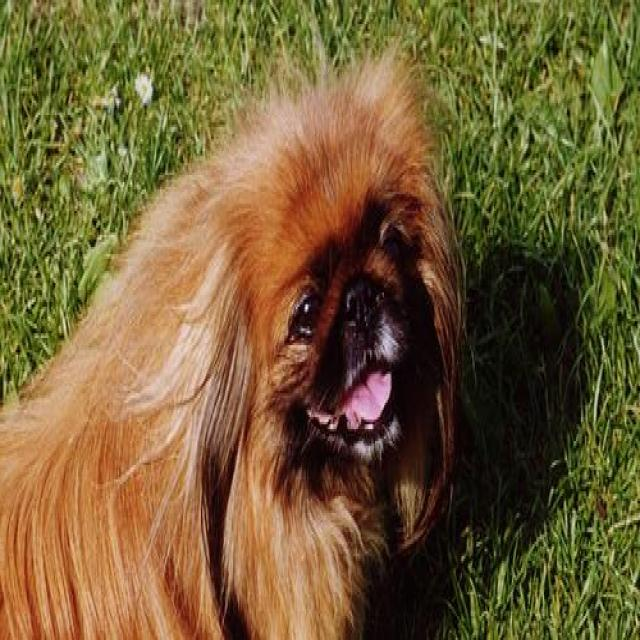pekinese: (2, 34, 470, 636)
